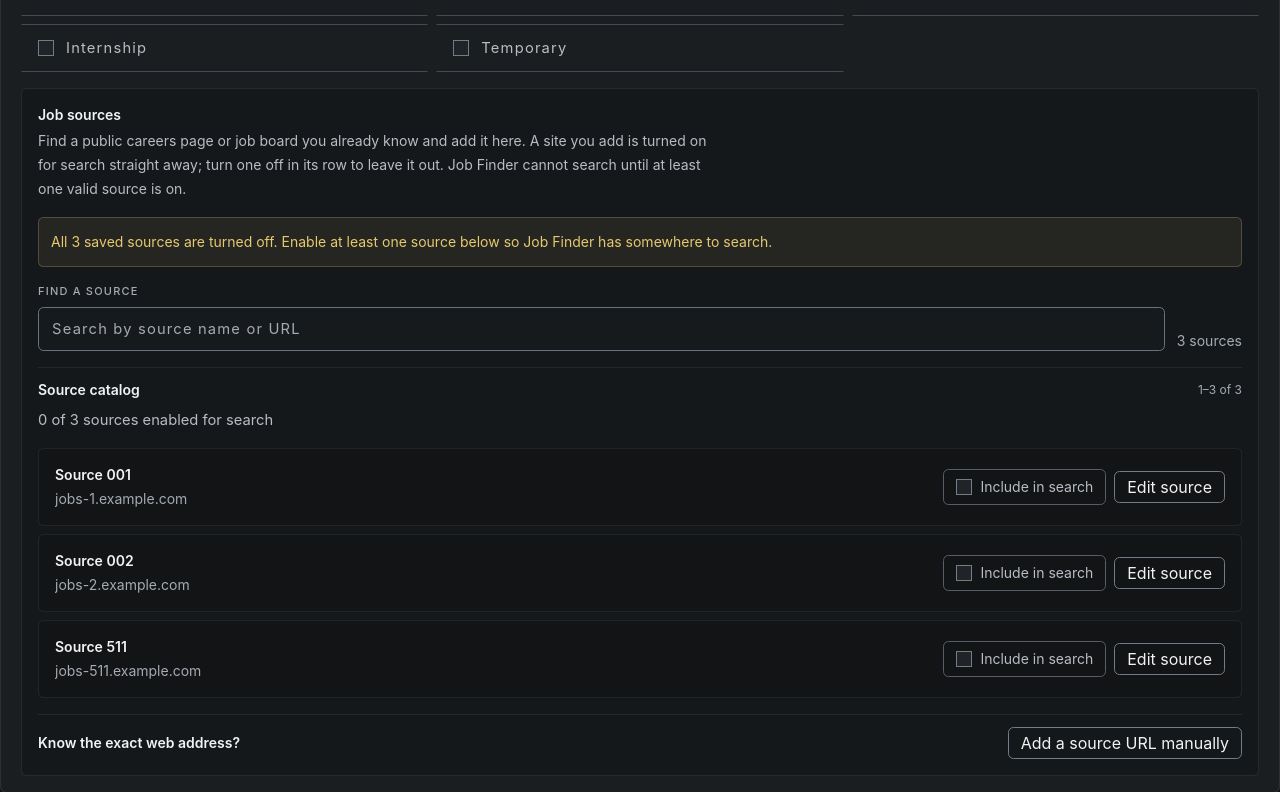
ProfileSetupTargetingStep source scale › keeps catalog editing validation-aware with one editor at a time
(page scrolled)
Click the button with aria-label "Edit Source 001" at (1170, 487), box [1114,471,1225,503]
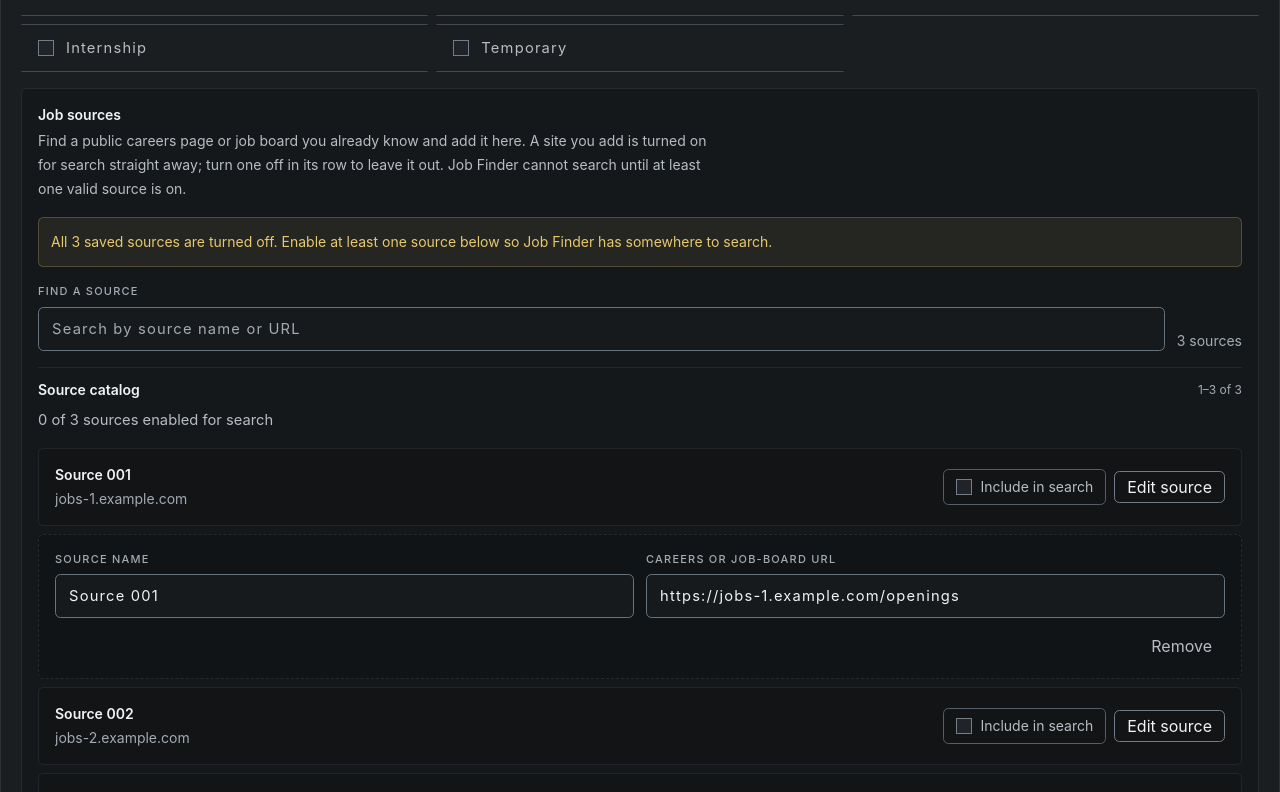
Expected: the field labelled "Careers or job-board URL" is shown
Replace the text in the field labelled "Careers or job-board URL" with "not-a-url" at (936, 596), box [646,574,1225,618]
(page scrolled)
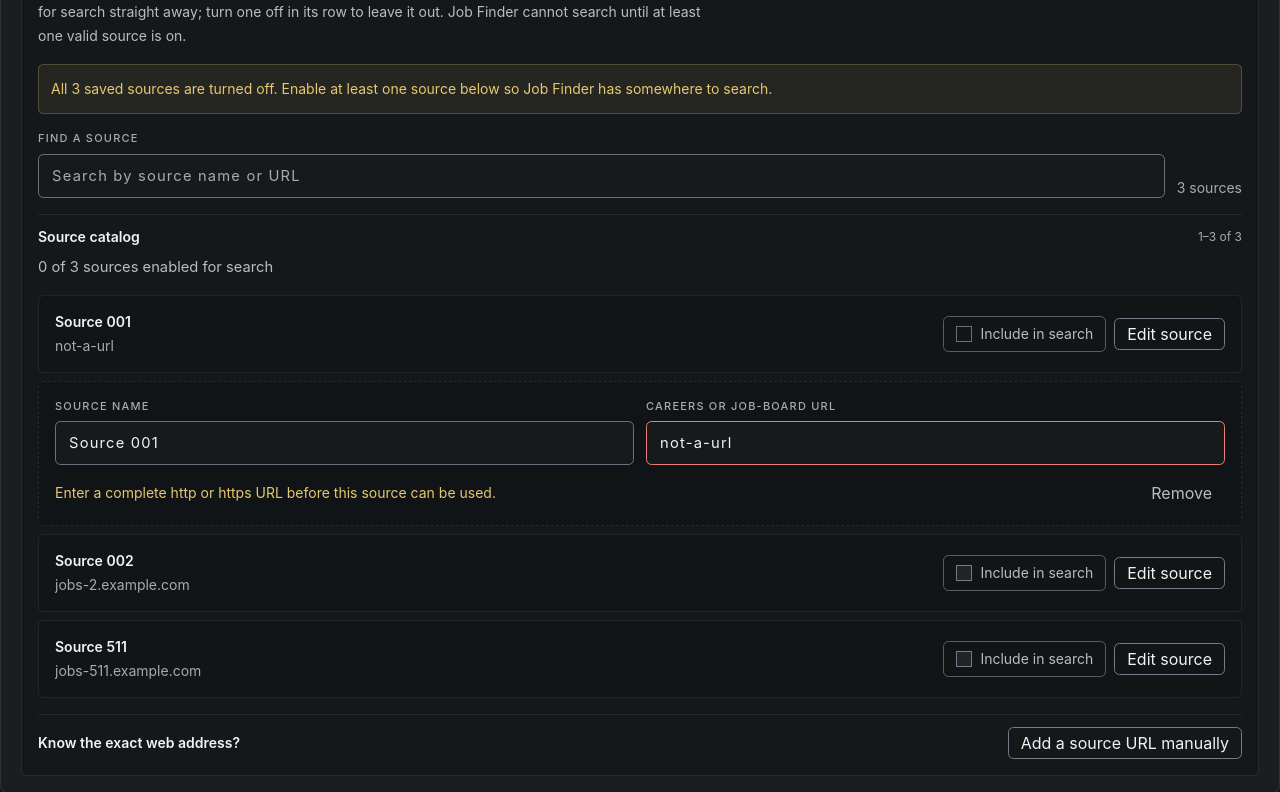
Expected: the text "Enter a complete http or https URL before this source can be used." is shown, [55,481,496,505]
Click the button with aria-label "Edit Source 511" at (1170, 659), box [1114,643,1225,675]
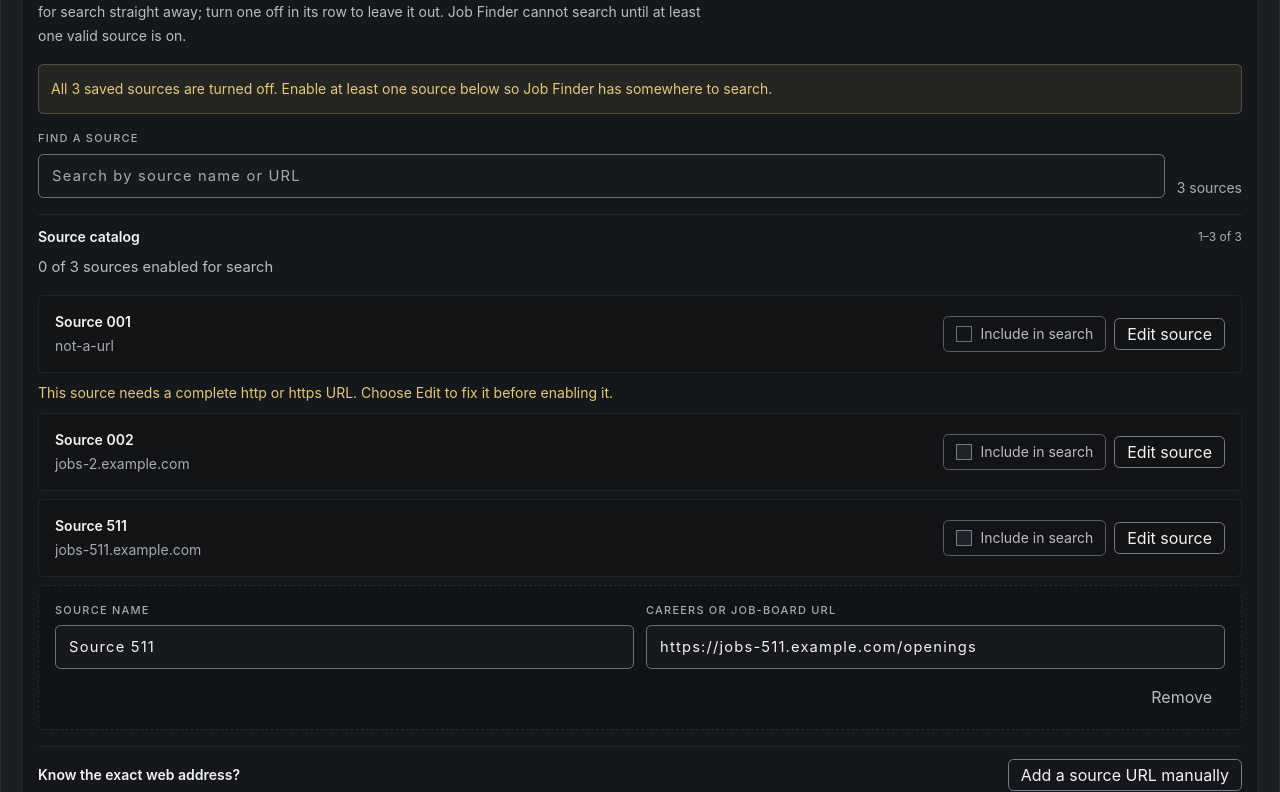
Expected: the field labelled "Careers or job-board URL" is shown, [646,625,1225,669]
Expected: the label is gone
Expected: the text "This source needs a complete http or https URL. Choose Edit to fix it before enabling it." is shown, [38,384,613,401]
